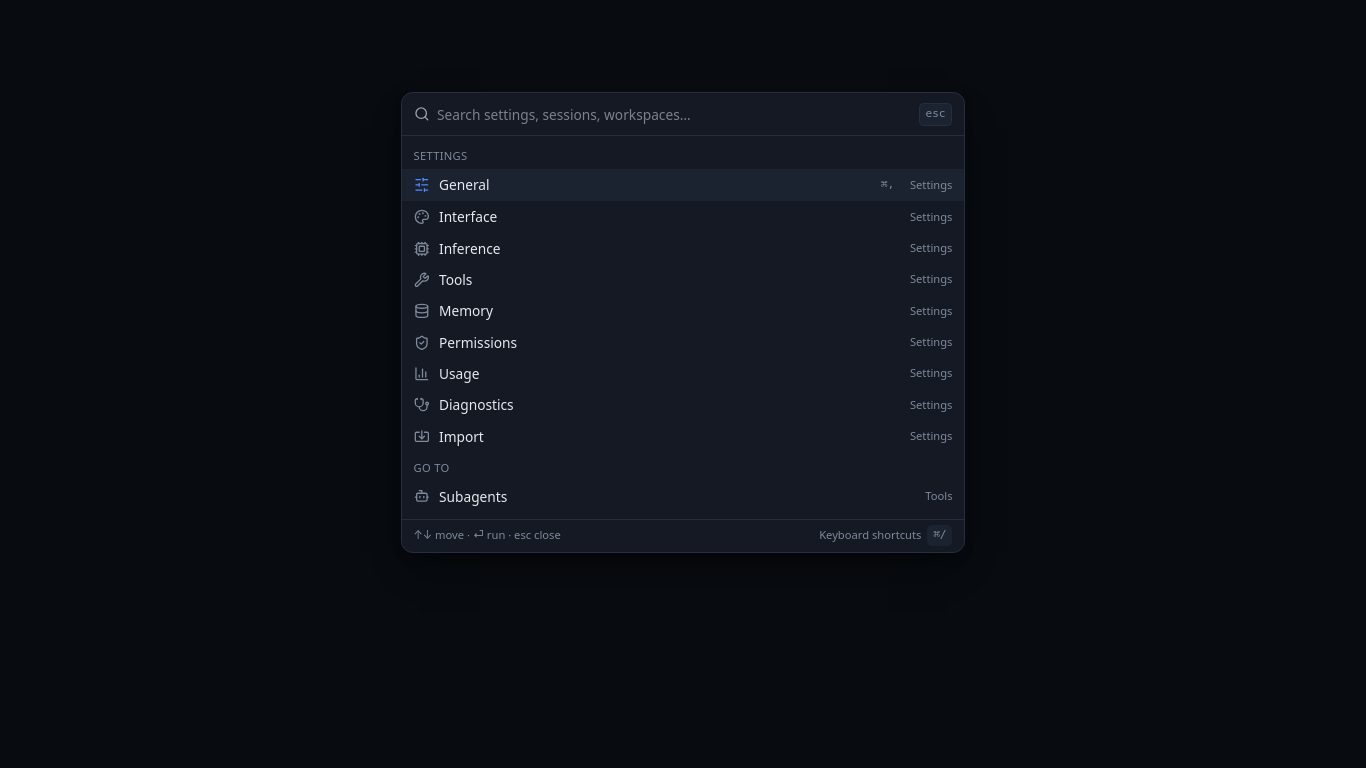
CommandPalette › lists commands and filters them as the query changes
Check: the text "Usage" is shown, box [439, 364, 480, 383]
Type "beta" into the dropdown at (674, 114), box [437, 104, 911, 124]
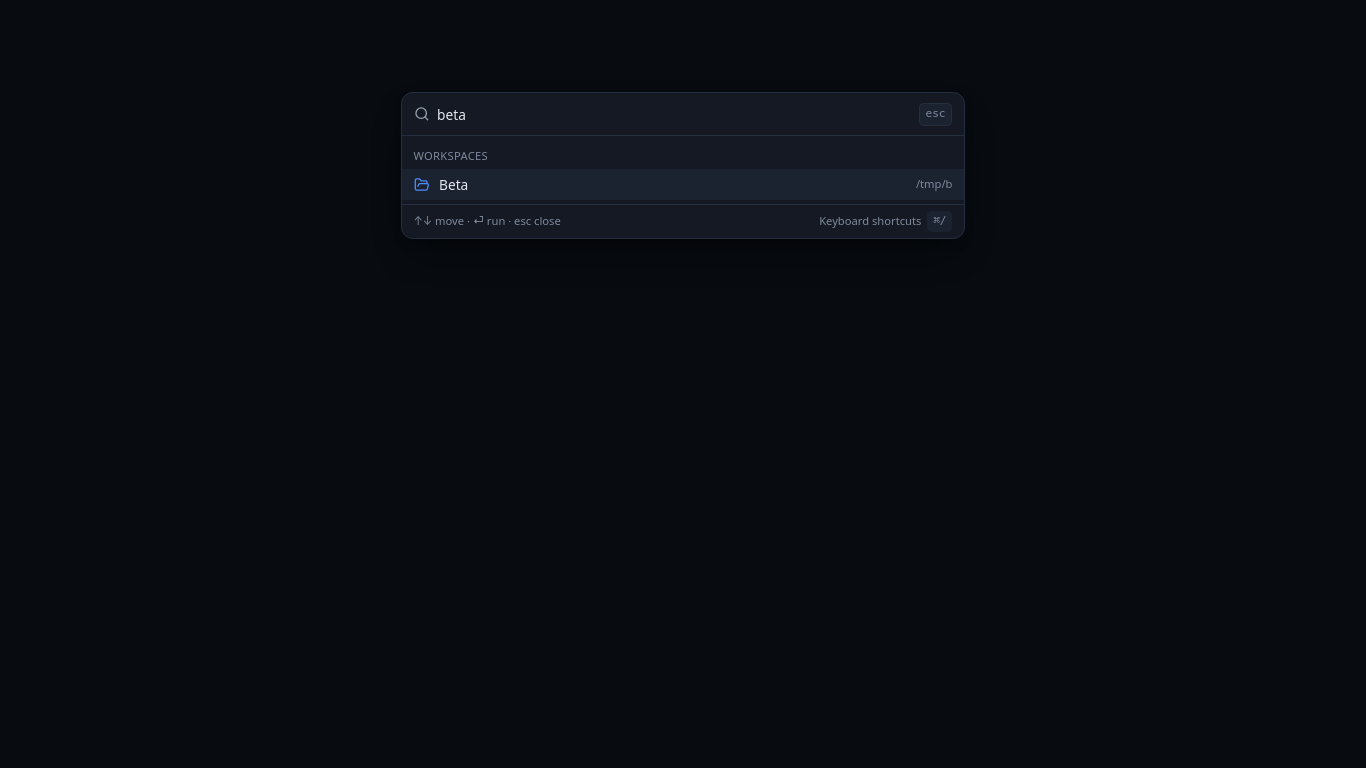
Check: the option "Usage" is gone
Check: the text "Beta" is shown, box [439, 175, 468, 194]
